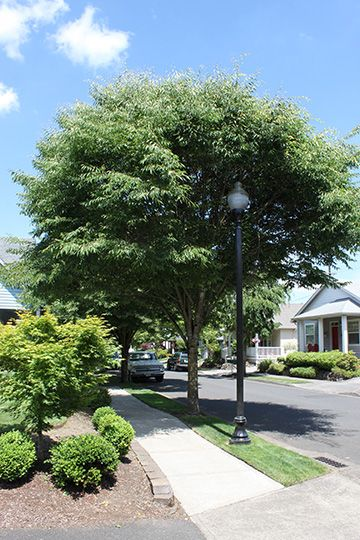tree: (8, 62, 360, 419), (1, 305, 126, 459)
